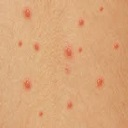Chickenpox: (20, 6, 33, 18), (96, 76, 107, 89), (32, 42, 41, 51), (24, 78, 31, 89), (76, 18, 85, 26), (66, 100, 74, 109), (114, 42, 120, 50)
